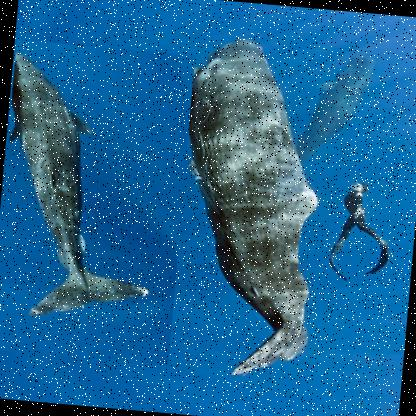sperm_whale: (0, 38, 195, 366), (165, 18, 338, 372)
